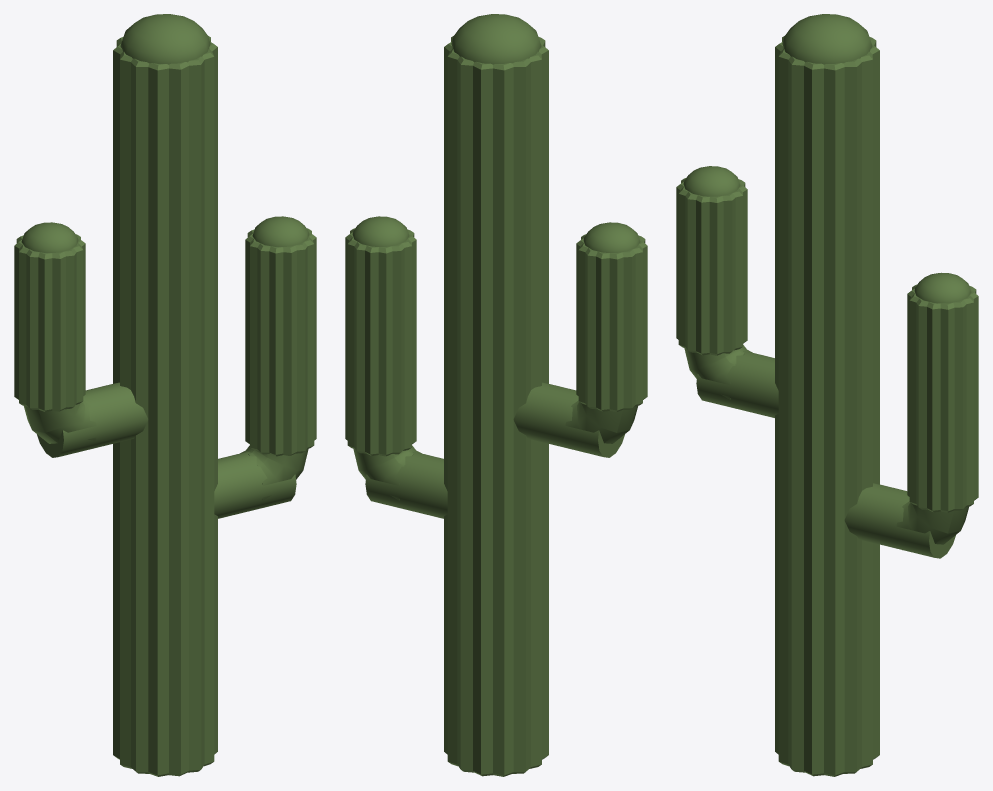
The model's file is saguaro.glb.
3 renders of one model, left to right at view 1: azimuth 30°, elevation 25°; view 2: azimuth 150°, elevation 25°; view 3: azimuth 330°, elevation 25°, orthographic.
Parts seen in each view (by area): view 1: cactus0, cactus4, cactus8, cactus6, cactus1, cactus2, cactus7, cactus9, cactus5, cactus3; view 2: cactus0, cactus4, cactus8, cactus6, cactus1, cactus2, cactus7, cactus9, cactus5, cactus3; view 3: cactus0, cactus4, cactus8, cactus2, cactus1, cactus6, cactus3, cactus9, cactus5, cactus7.
Boxes of the visible parts, x1,y1,x2,y2 form: cactus0: [113, 36, 217, 776]; cactus4: [245, 228, 316, 456]; cactus8: [14, 234, 85, 411]; cactus6: [37, 382, 148, 457]; cactus1: [120, 14, 210, 64]; cactus2: [214, 451, 296, 518]; cactus7: [24, 400, 96, 443]; cactus9: [21, 222, 78, 252]; cactus5: [252, 216, 309, 246]; cactus3: [240, 445, 308, 500]; cactus0: [444, 36, 548, 776]; cactus4: [345, 228, 416, 456]; cactus8: [576, 234, 647, 411]; cactus6: [513, 382, 624, 457]; cactus1: [451, 14, 541, 64]; cactus2: [365, 451, 447, 518]; cactus7: [565, 400, 637, 443]; cactus9: [583, 222, 640, 252]; cactus5: [352, 216, 409, 246]; cactus3: [353, 445, 421, 500]; cactus0: [775, 36, 879, 776]; cactus4: [907, 284, 978, 512]; cactus8: [676, 178, 747, 355]; cactus2: [844, 483, 955, 558]; cactus1: [782, 14, 872, 64]; cactus6: [696, 351, 778, 417]; cactus3: [896, 501, 968, 550]; cactus9: [683, 166, 740, 196]; cactus5: [914, 272, 971, 303]; cactus7: [684, 344, 752, 399].
Size of the model in its own units: 1.83 by 4.39 by 0.5527.
